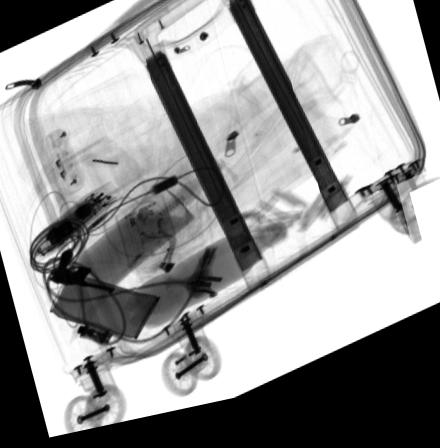Gun: (48, 251, 115, 301)
